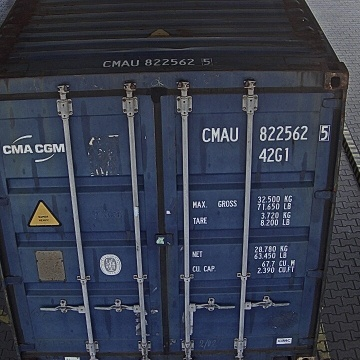serial_id: (203, 125, 329, 141)
